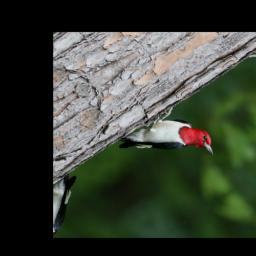Woodpecker: (113, 96, 223, 194)
